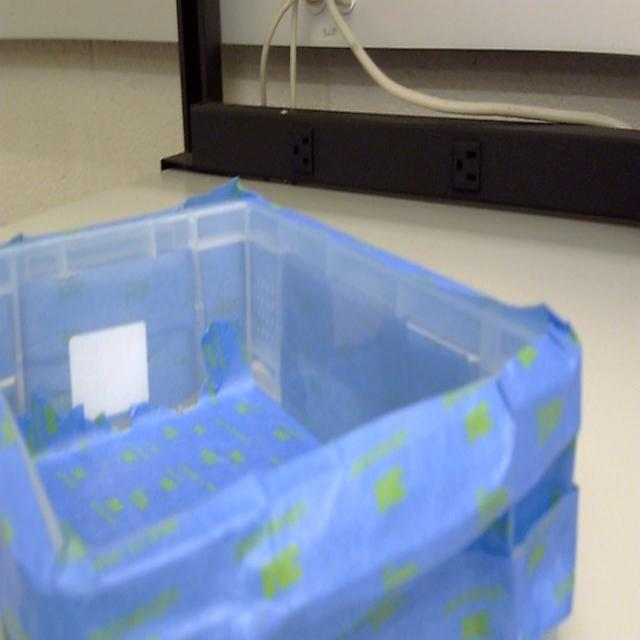bucket: (0, 180, 584, 640)
